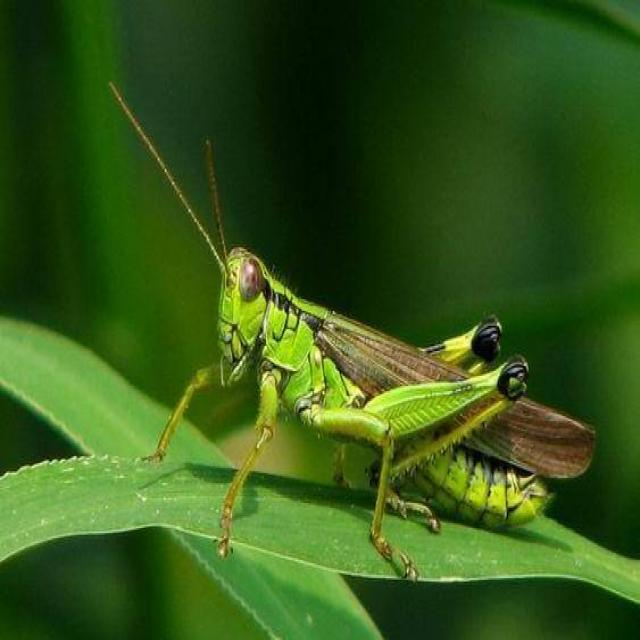ZhaMeng: (145, 147, 592, 557)
